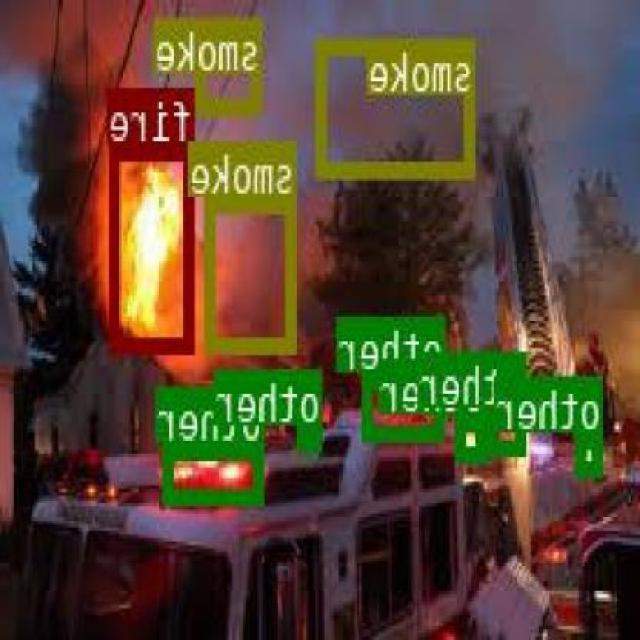Fire: (113, 142, 196, 350)
Smoke: (318, 34, 477, 174), (208, 196, 298, 352), (198, 16, 264, 110)
